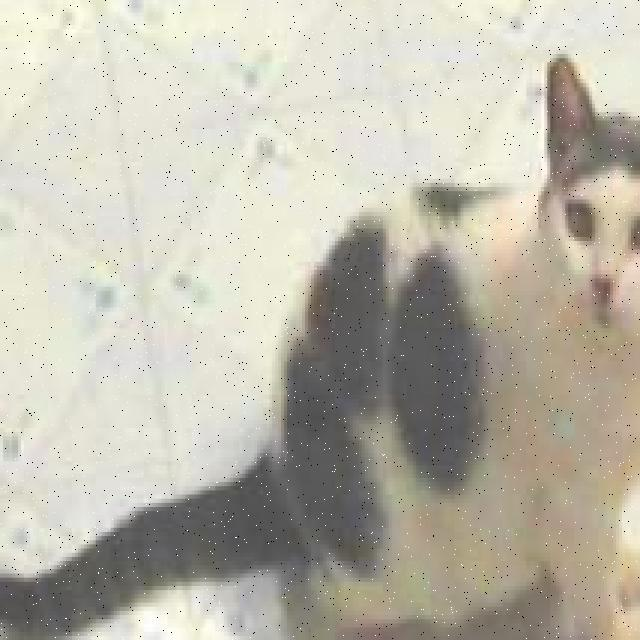Cat: (514, 62, 640, 362)
